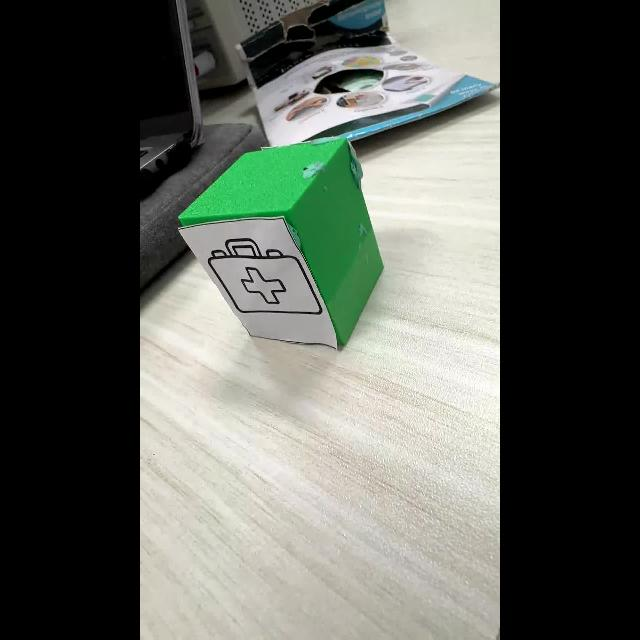Medkit: (208, 238, 323, 316)
